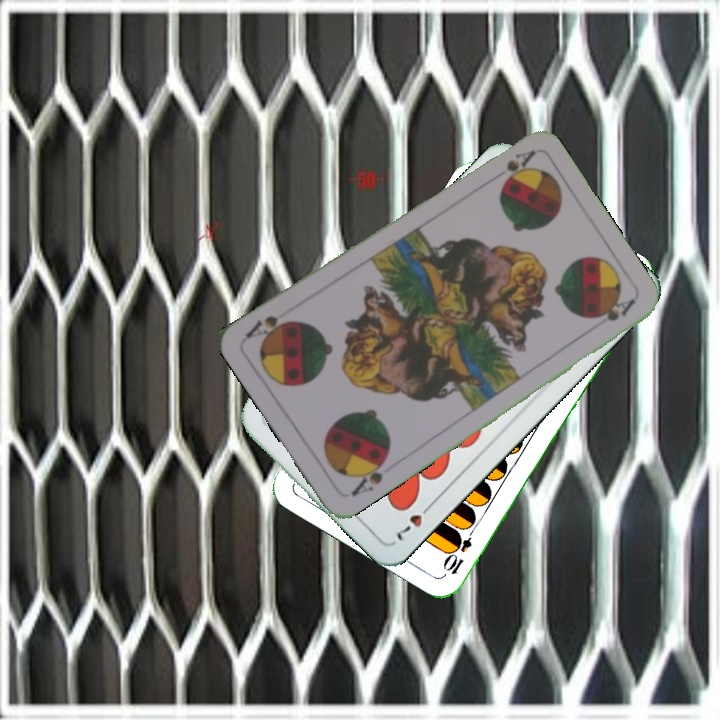E10: (441, 521, 479, 578)
H7: (392, 498, 437, 544)
SA: (346, 452, 390, 499), (502, 146, 537, 180)
